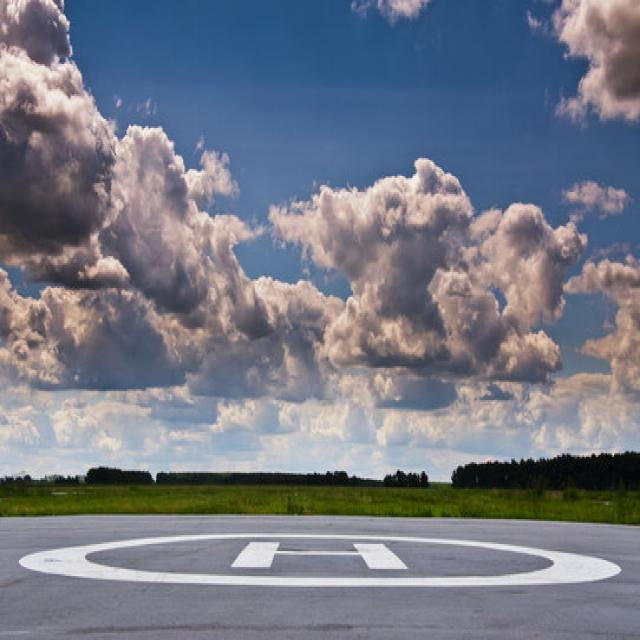helipad: (10, 521, 622, 594)
